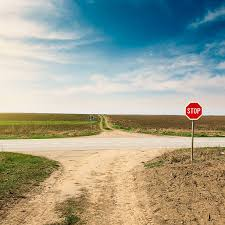stop sign: (185, 103, 202, 120)
